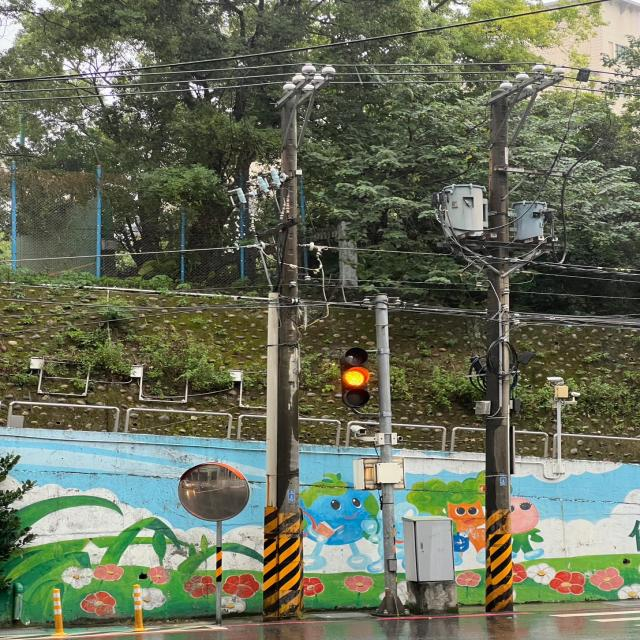yellow light: (339, 349, 372, 410)
